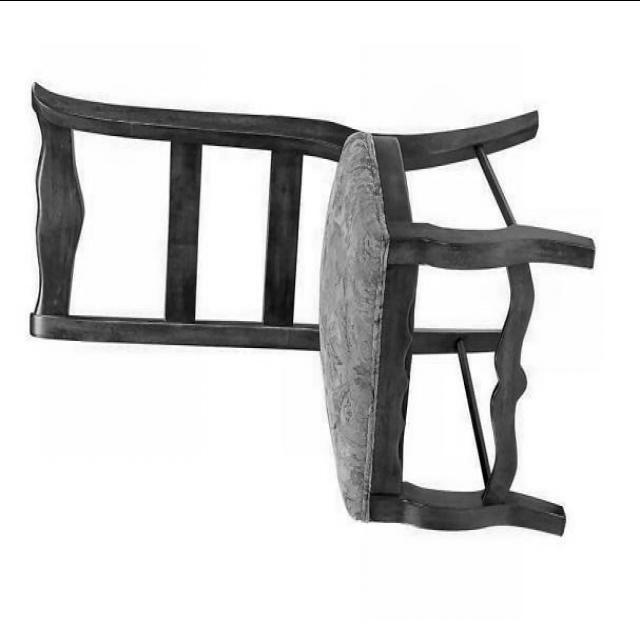chair: (23, 78, 594, 538)
